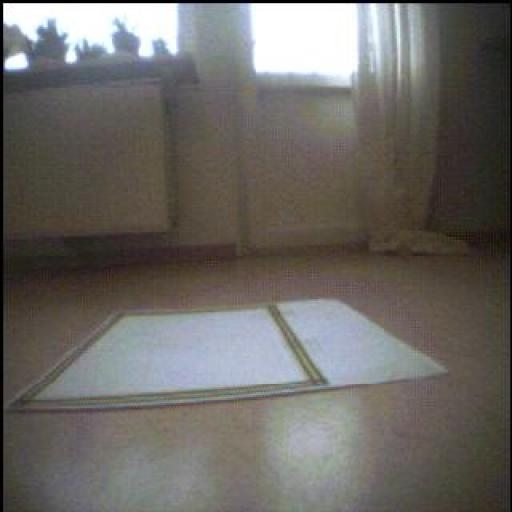Pad: (11, 300, 446, 411)
